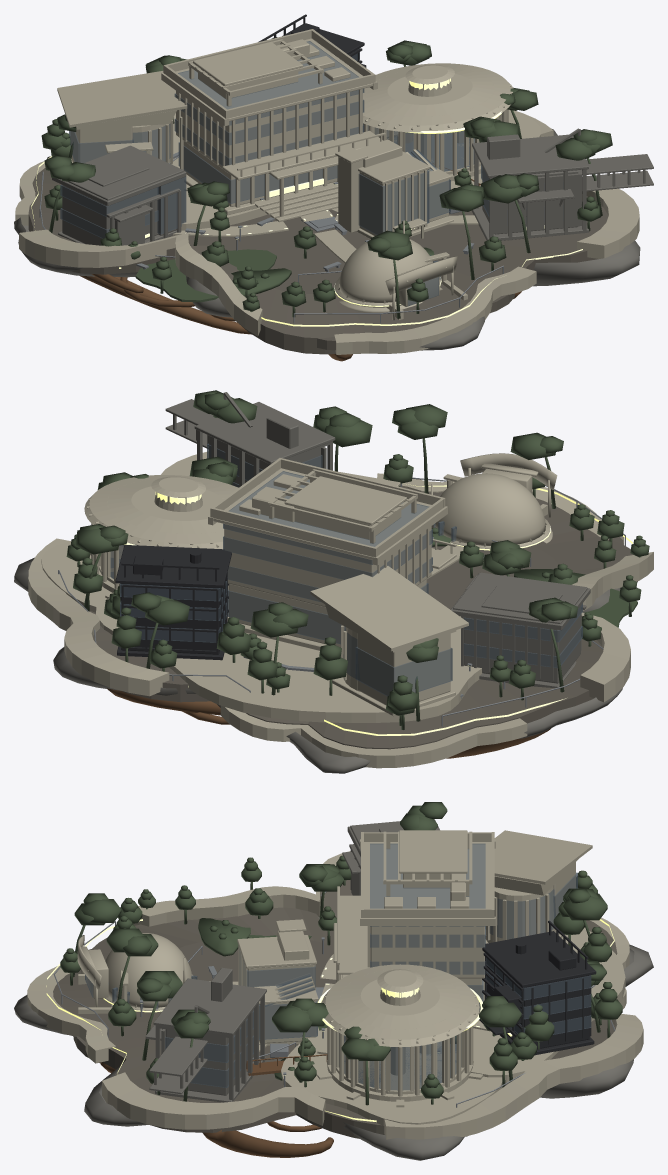
The model's file is knowledge_campus.glb.
3 renders of one model, top to bottom at view 1: azimuth 30°, elevation 25°; view 2: azimuth 150°, elevation 25°; view 3: azimuth 270°, elevation 25°, orthographic. The views are drawn at different scales.
Parts seen in each view (by area): view 1: academic_main, campus_ground_plaza, campus_landscape_trees, campus_support_rim, engineering_building, library, business_building, science_building, design_building, academic_main_glass, auditorium, campus_support_bowl (+13 smaller); view 2: campus_landscape_trees, academic_main, campus_support_rim, campus_ground_plaza, design_building, campus_ground_terrace_north, business_building, technology_building, library, auditorium, academic_main_glass, engineering_building (+11 smaller); view 3: campus_landscape_trees, campus_support_rim, academic_main, library, campus_ground_plaza, engineering_building, technology_building, design_building, academic_main_glass, science_building, campus_support_bowl, campus_ground_terrace_east (+12 smaller).
Boxes of the visible parts, x1,y1,x2,y2 form: academic_main: (161,29,385,221); campus_ground_plaza: (28,168,608,354); campus_landscape_trees: (41,37,612,318); campus_support_rim: (15,109,639,354); engineering_building: (471,128,653,240); library: (363,63,513,181); business_building: (52,145,186,245); science_building: (335,139,453,238); design_building: (57,71,187,169); academic_main_glass: (174,41,364,203); auditorium: (334,220,457,320); campus_support_bowl: (14,128,640,350); campus_landscape_trees: (66,390,649,729); academic_main: (208,458,456,650); campus_support_rim: (28,452,653,768); campus_ground_plaza: (89,486,637,749); design_building: (310,566,468,716); campus_ground_terrace_north: (96,598,482,722); business_building: (451,572,590,688); technology_building: (115,545,231,660); library: (84,475,238,601); auditorium: (431,453,557,549); academic_main_glass: (223,471,432,644); engineering_building: (165,392,335,487); campus_landscape_trees: (60,802,622,1105); campus_support_rim: (27,851,643,1139); academic_main: (333,830,495,1020); library: (317,964,483,1107); campus_ground_plaza: (53,880,617,1138); engineering_building: (145,967,266,1102); technology_building: (479,920,596,1055); design_building: (485,830,592,943); academic_main_glass: (370,843,485,1010); science_building: (237,919,319,1045); campus_support_bowl: (14,917,653,1160); campus_ground_terrace_east: (281,1028,502,1125).
Bounding box in the file's own units: 10.4 × 4.65 × 10.11.
